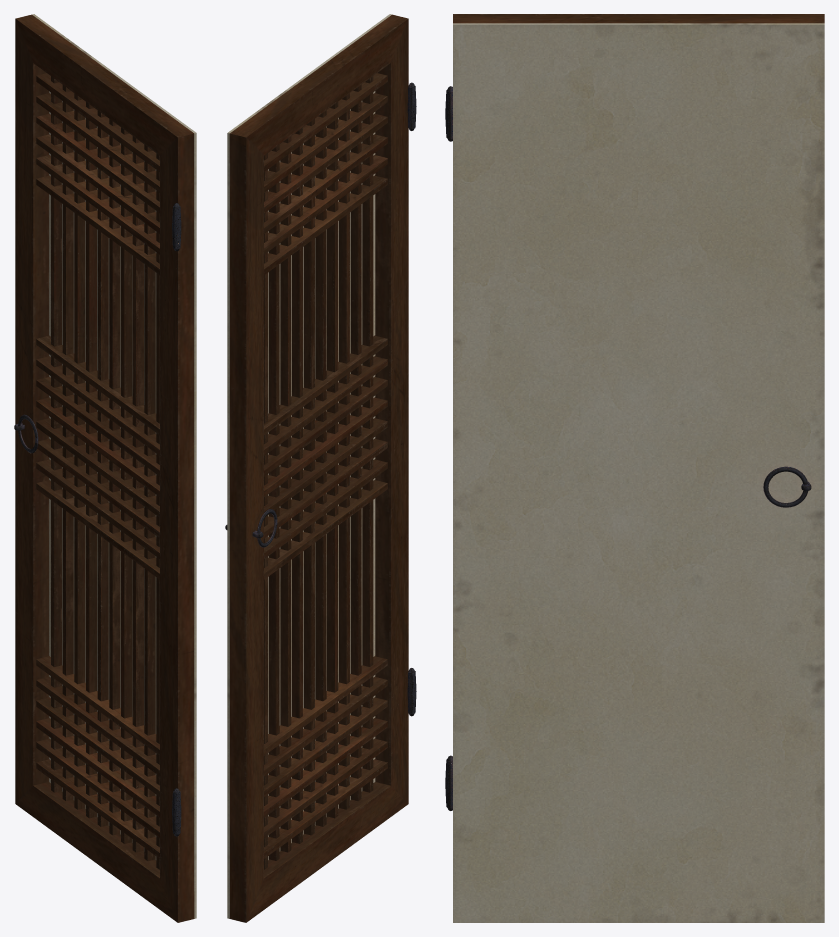
File: SM_Door01b_02.fbx
The picture shows the model from 3 angles, left to right: view 1: azimuth 30°, elevation 25°; view 2: azimuth 150°, elevation 25°; view 3: azimuth 270°, elevation 25°; orthographic projection. The views are drawn at different scales.
Visible parts, largest first — view 1: SM_Door01b_02; view 2: SM_Door01b_02; view 3: SM_Door01b_02.
Part boxes in pixels (x1,y1,x2,y2): SM_Door01b_02: (14, 14, 196, 922); SM_Door01b_02: (225, 14, 416, 922); SM_Door01b_02: (445, 14, 824, 922).
Size of the model in its own units: 7.84 by 160 by 61.25.
Materials: 1 (1 with a texture image).
